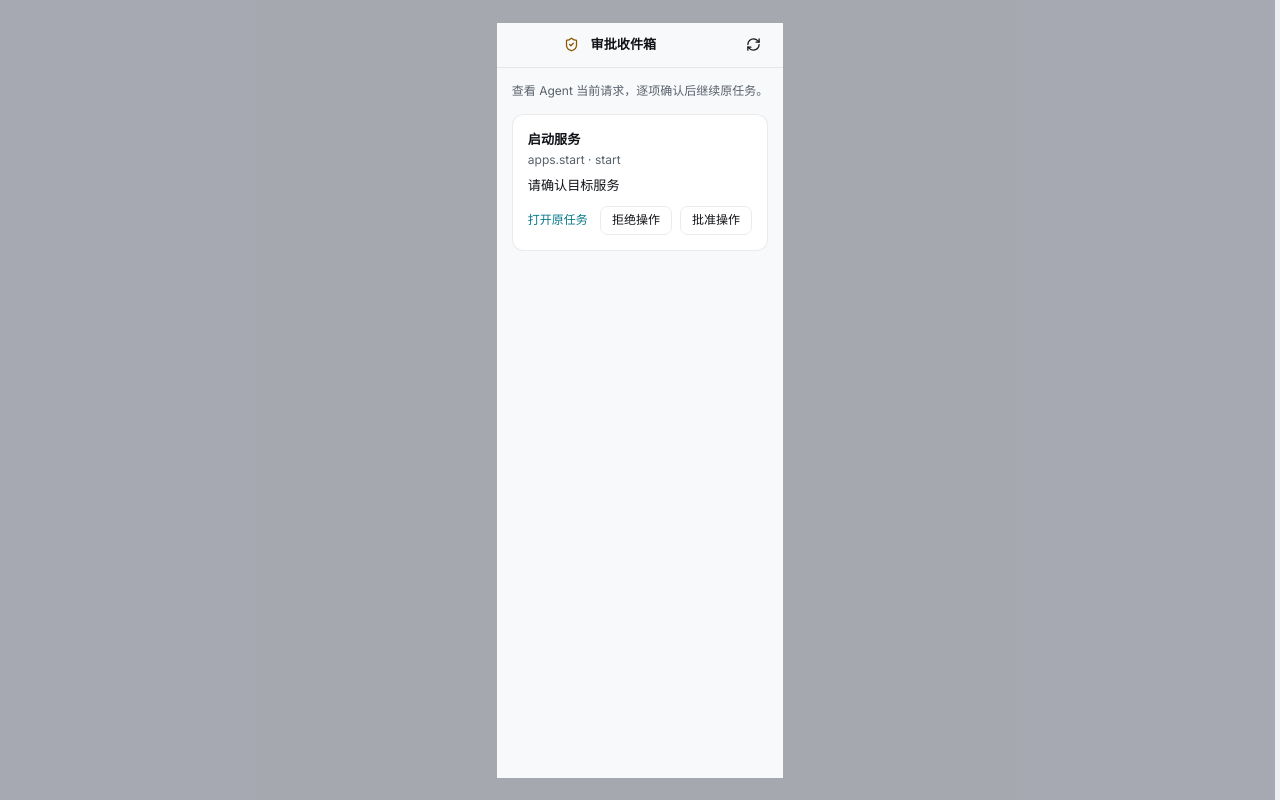
Test case: Decision inbox › reports a refused decision in Chinese
Click the button "批准操作": (716, 220) [680,206,752,235]
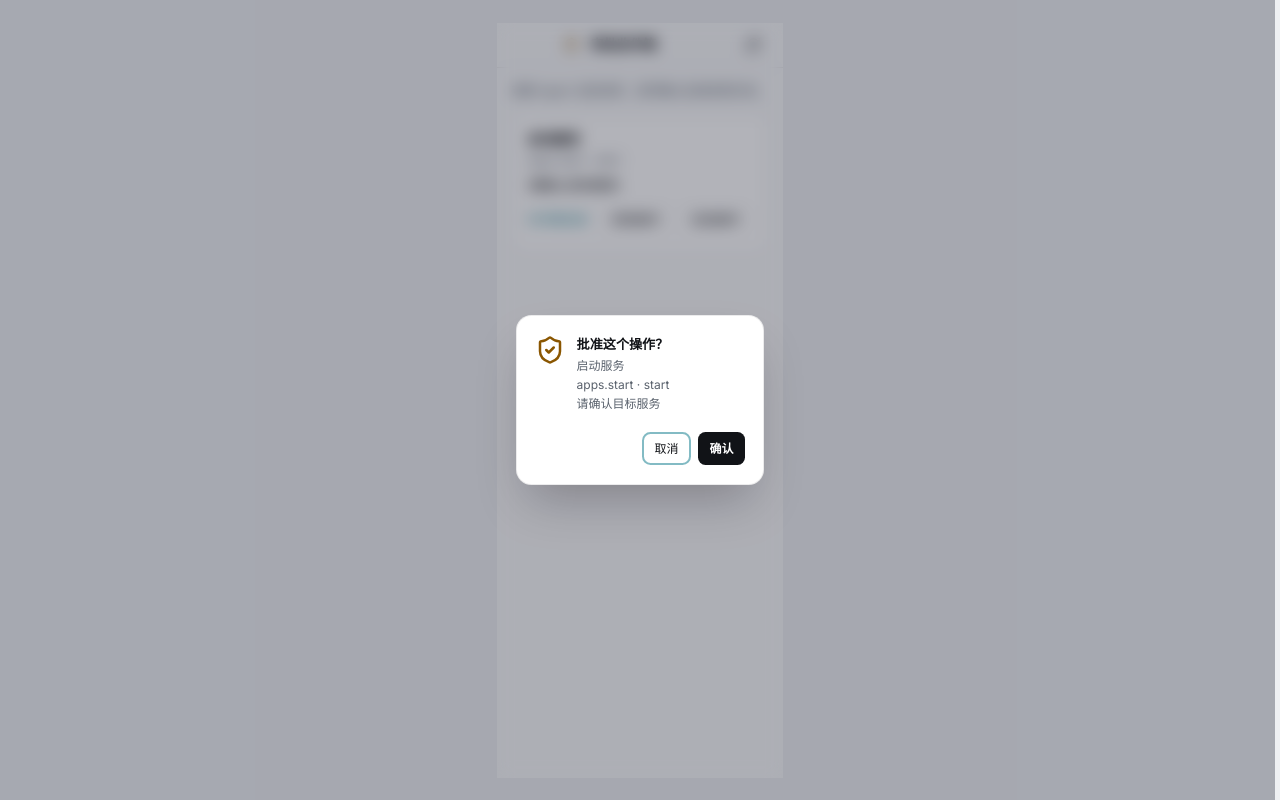
Click the button "确认": (721, 449) [698,432,745,465]
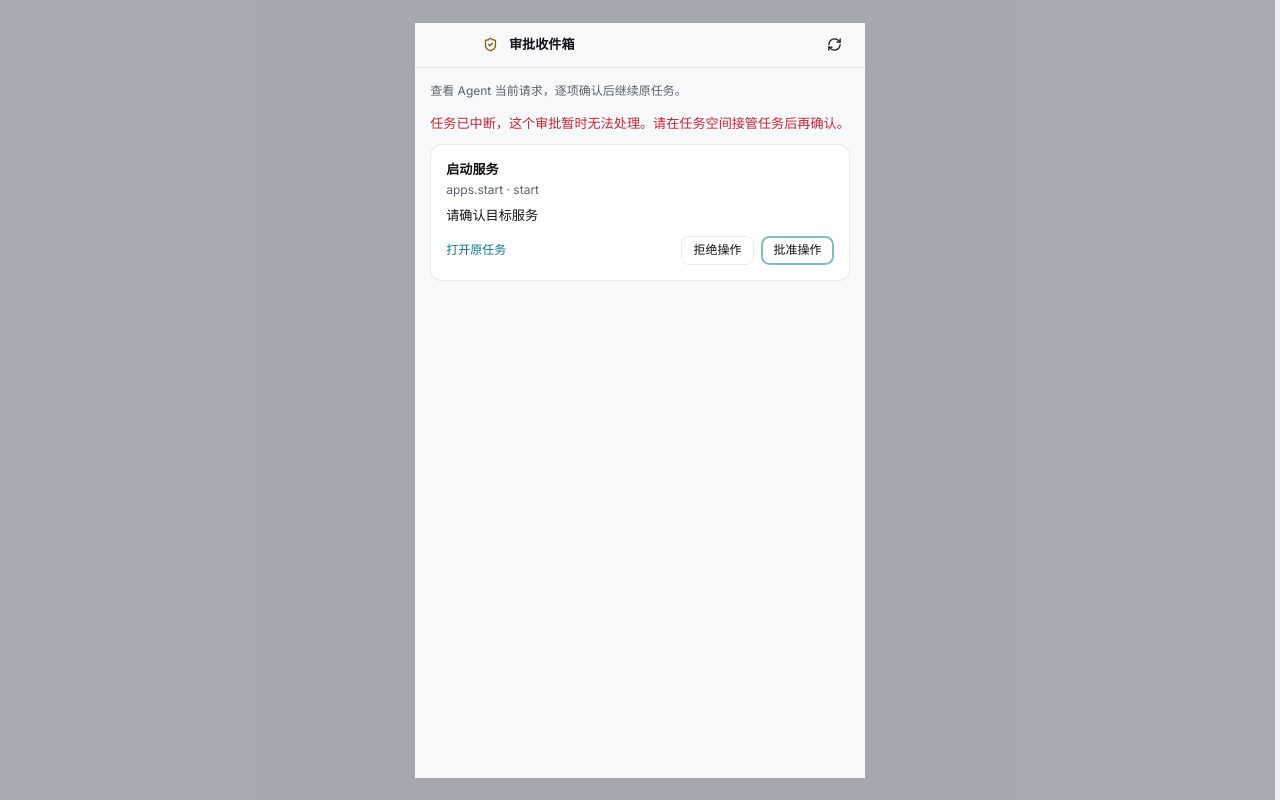
Expected: the message shows "任务已中断", [430,114,850,130]
